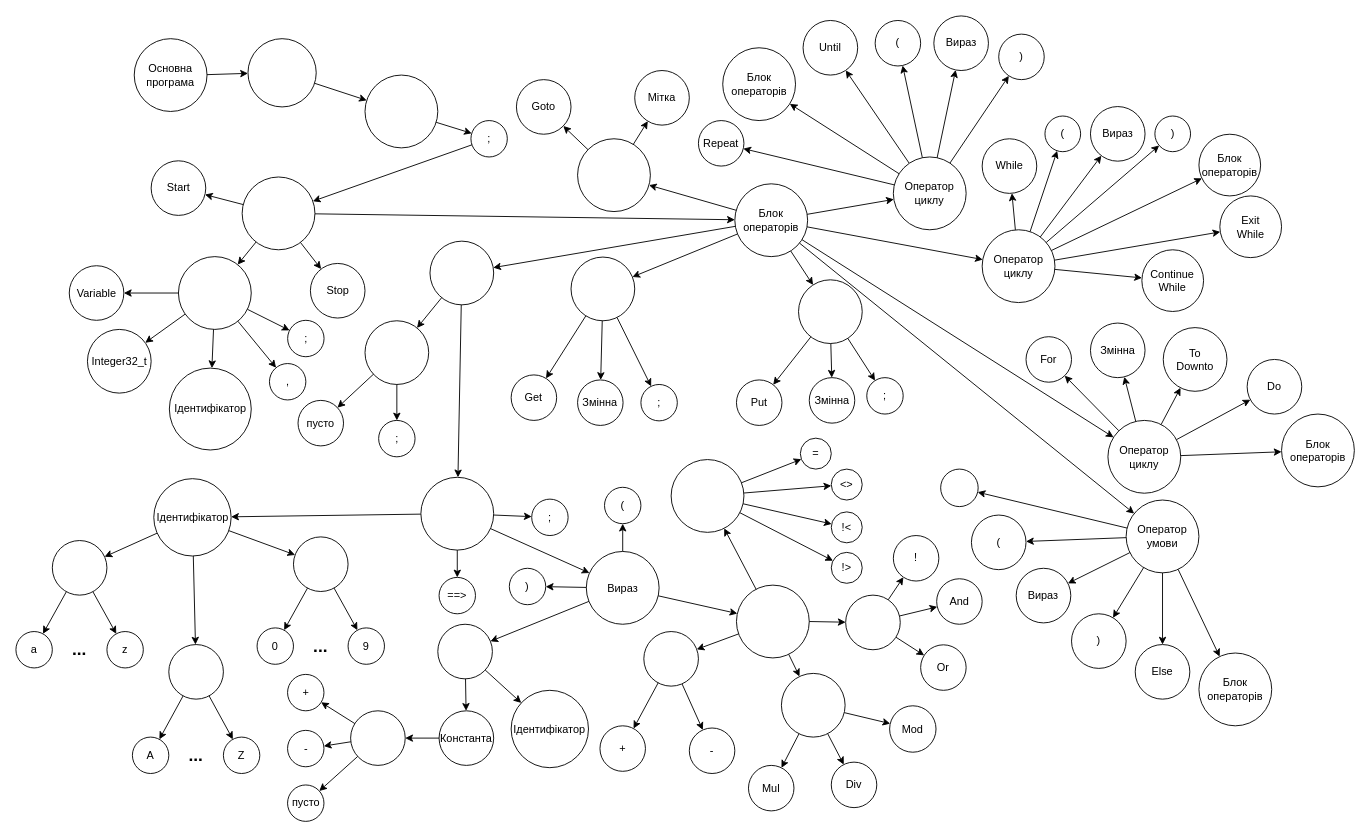
The diagram is 1370 pixels wide and 838 high, and some of its shapes have lost their labels. Each missing label, with the centre of its shape:
#Program: pixel 281 72
If: pixel 959 487
Адитивна операція: pixel 670 658
Блок змінних: pixel 214 292
Блок коду: pixel 278 213
Велика буква: pixel 195 671
Знак: pixel 377 737
Логічна операція: pixel 872 622
Мала буква: pixel 79 567
Мультиплі кативна операція: pixel 813 704
Операнд: pixel 464 651
Оператор вводу: pixel 602 288
Оператор виводу: pixel 830 311
Оператор переходу: pixel 613 175
Операції: pixel 772 621
Операції порівняння: pixel 707 495
Порожній оператор: pixel 396 352
Присвоєння: pixel 457 513
Простий оператор: pixel 461 272
Цифра: pixel 320 564
Ім'я програми: pixel 401 111
